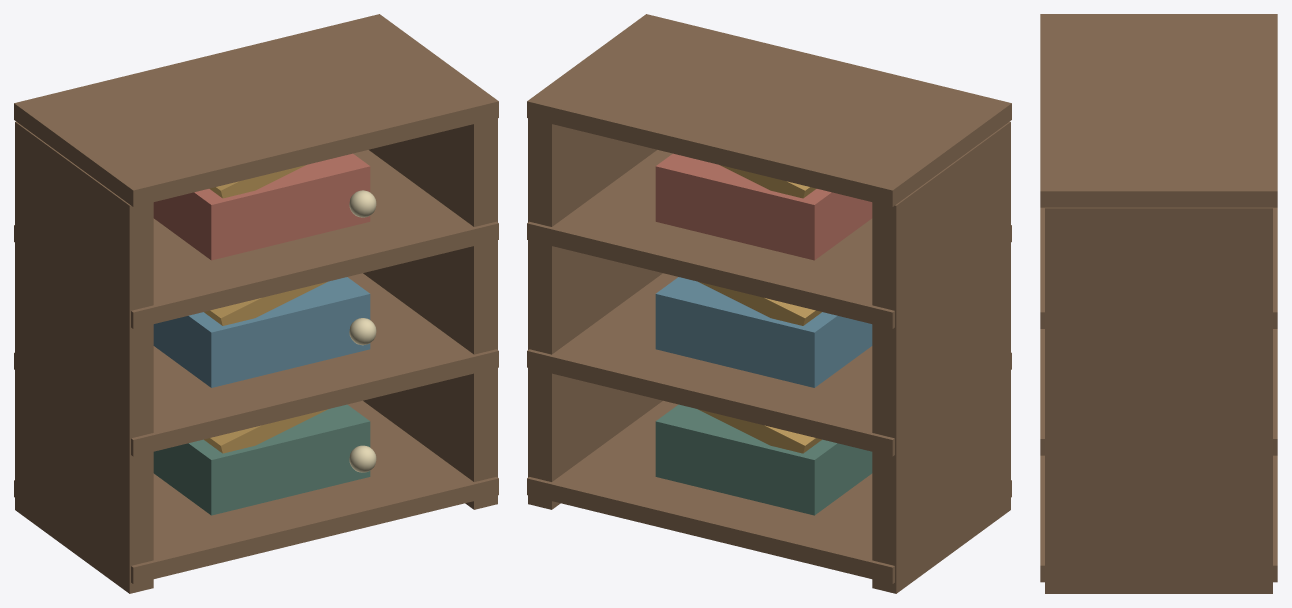
3 views of the same model, side by side, from view 1: azimuth 30°, elevation 25°; view 2: azimuth 150°, elevation 25°; view 3: azimuth 270°, elevation 25° (orthographic).
Size of the model in its own units: 1.39 by 1.46 by 0.78.
